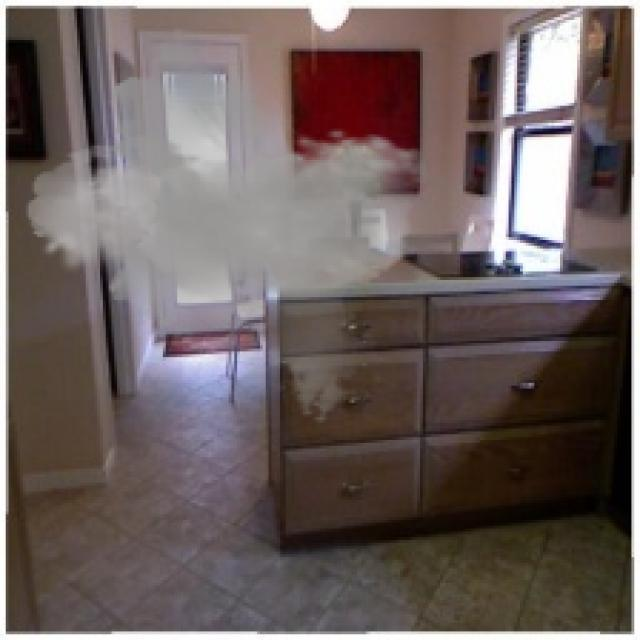Smoke: (26, 26, 428, 426)
